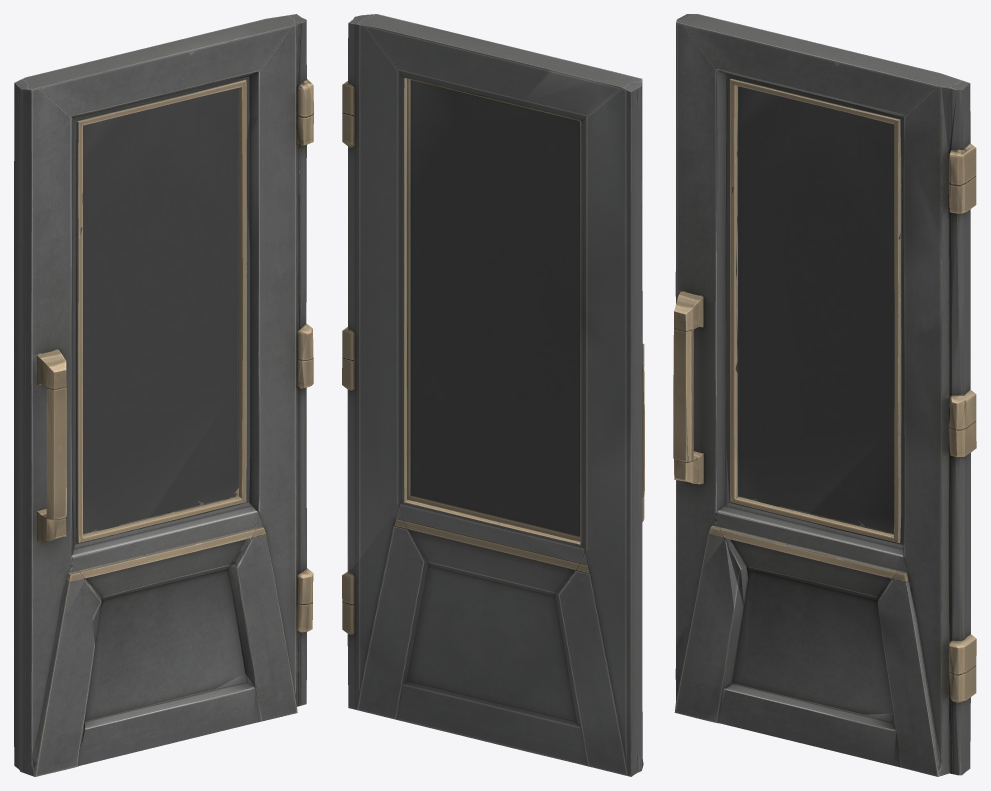
File: imperial_cultural_district__entrance_door_leaf.glb
3 views of the same model, side by side, from view 1: azimuth 30°, elevation 25°; view 2: azimuth 150°, elevation 25°; view 3: azimuth 330°, elevation 25° (orthographic).
Parts seen in each view (by area): view 1: mesh_node; view 2: mesh_node; view 3: mesh_node.
Boxes of the visible parts, left/top/right/bottom form: mesh_node: left=14, top=14, right=313, bottom=776; mesh_node: left=342, top=14, right=644, bottom=776; mesh_node: left=673, top=14, right=976, bottom=776.
Bounding box in the file's own units: 1.08 × 2.44 × 0.1735.
1 material, 1 textured.
